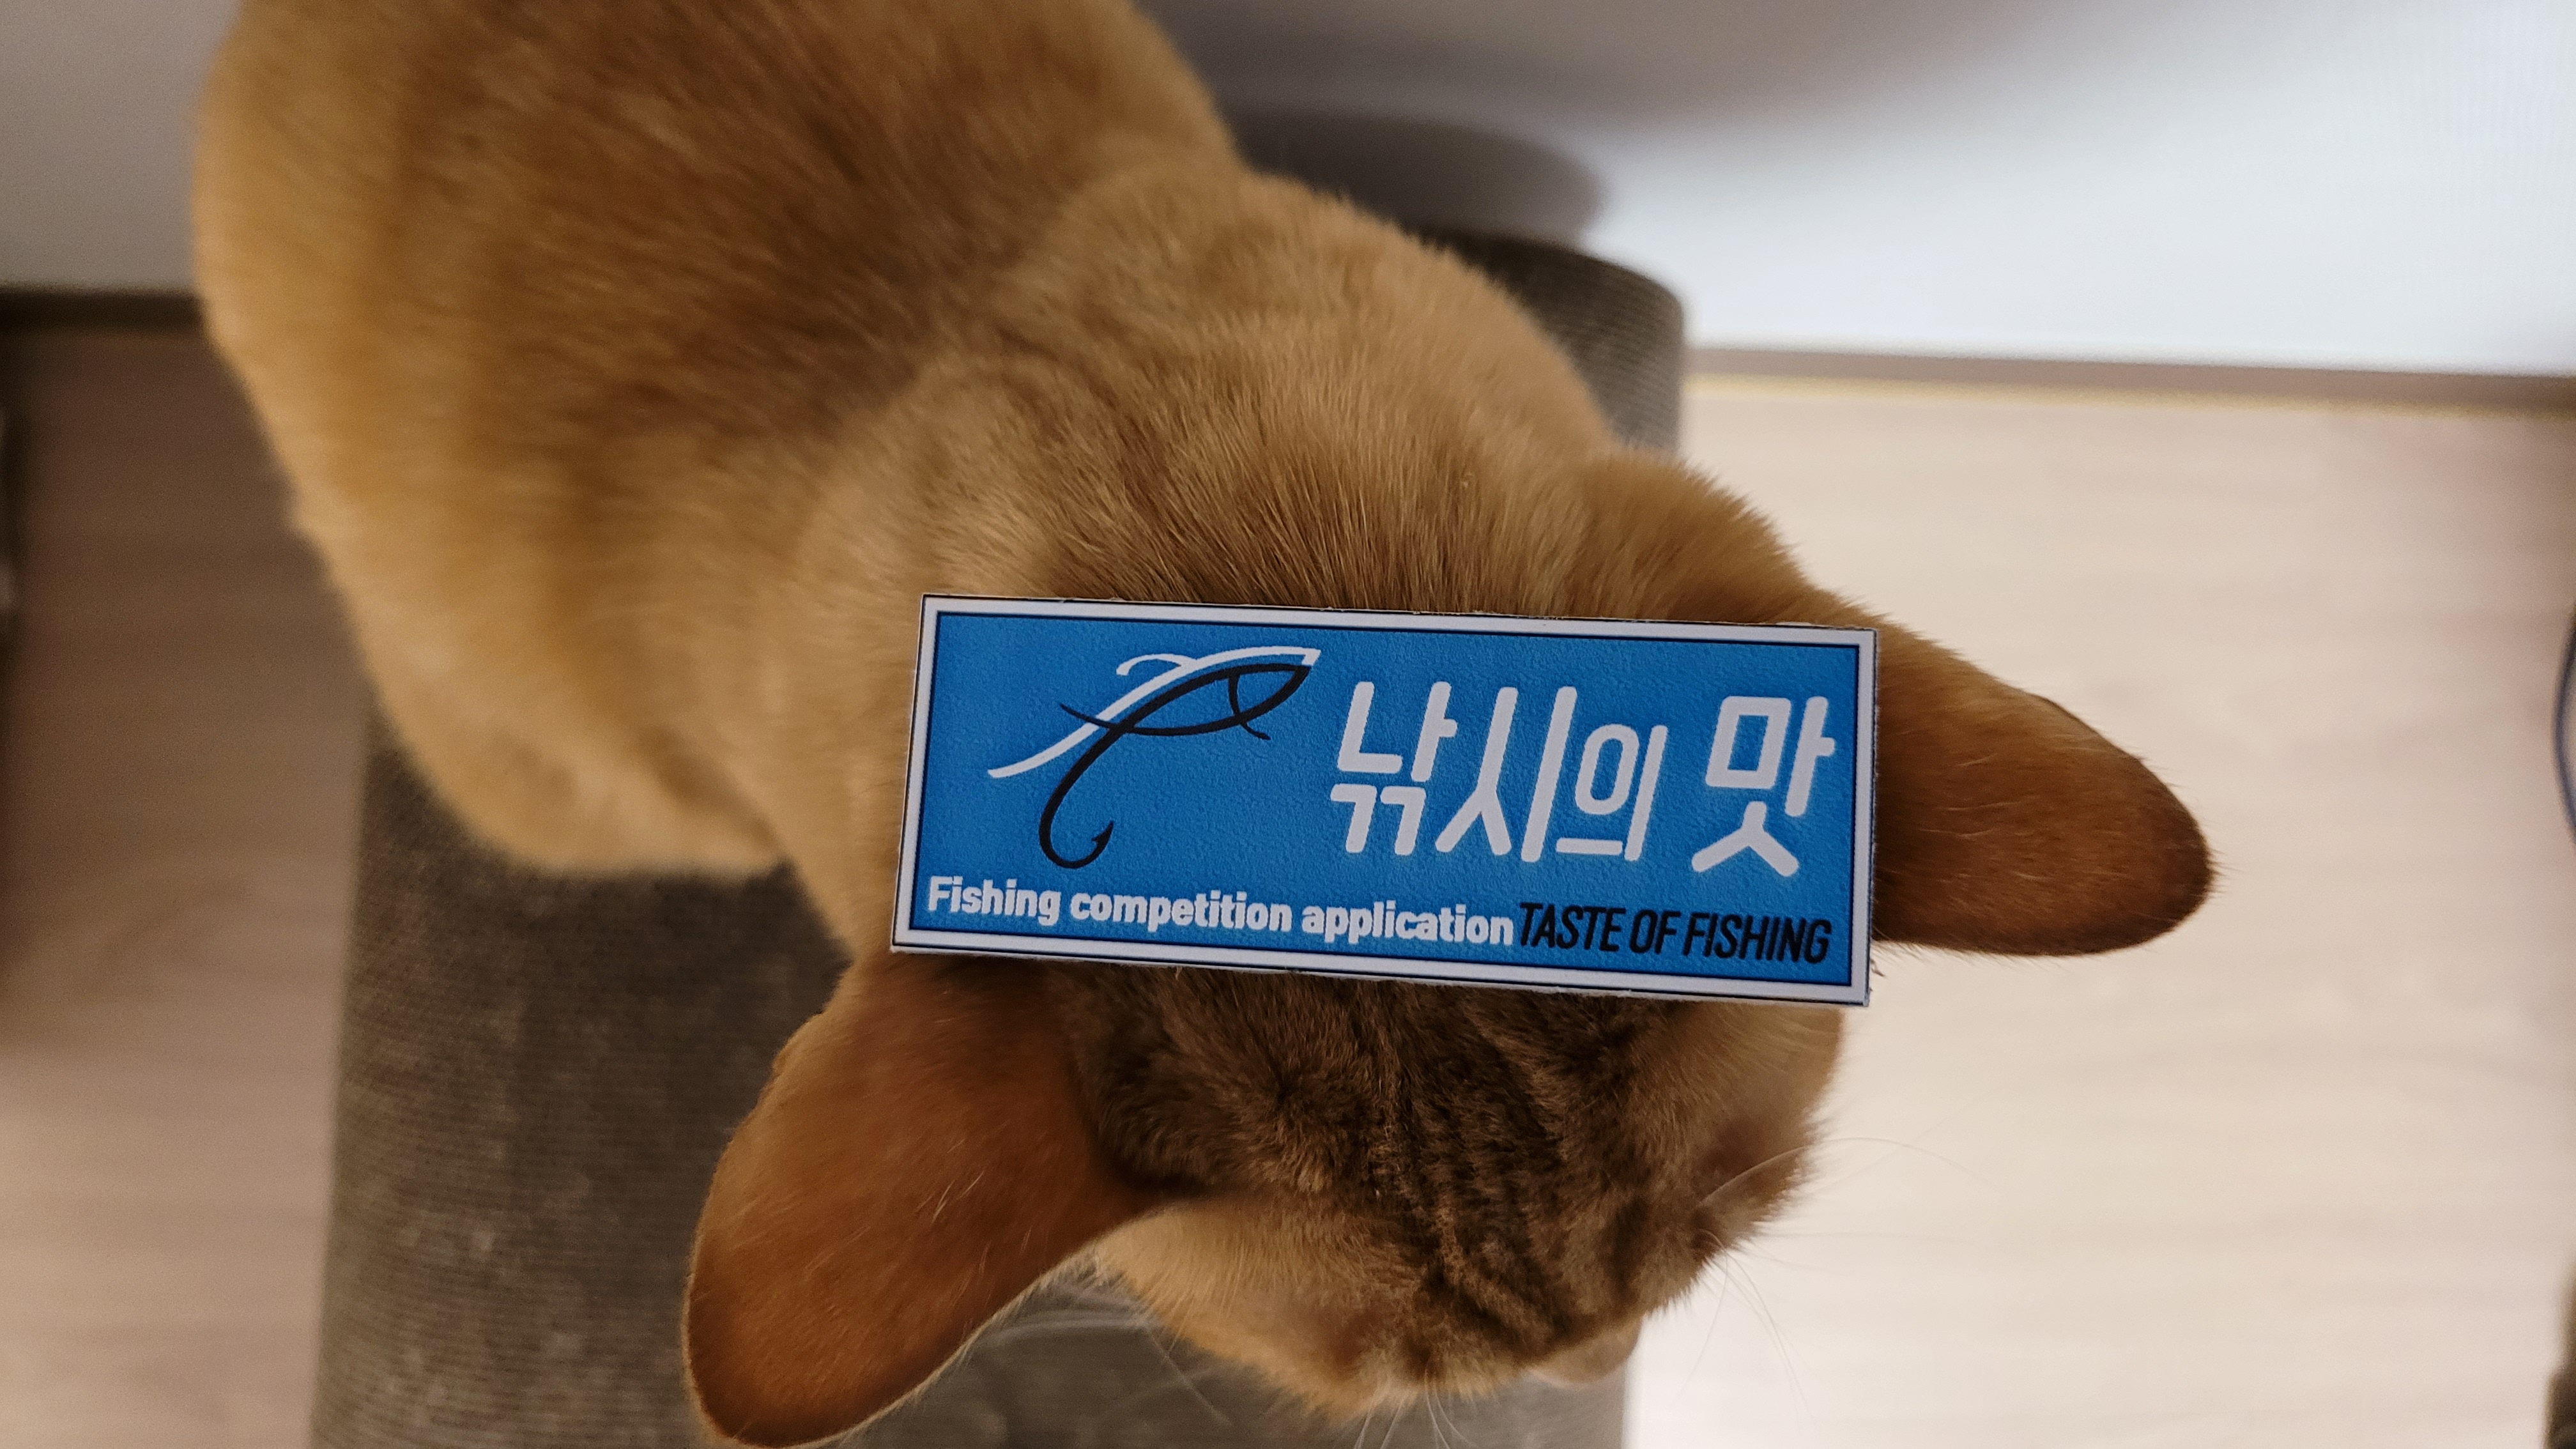tag: (892, 598, 1870, 1017)
